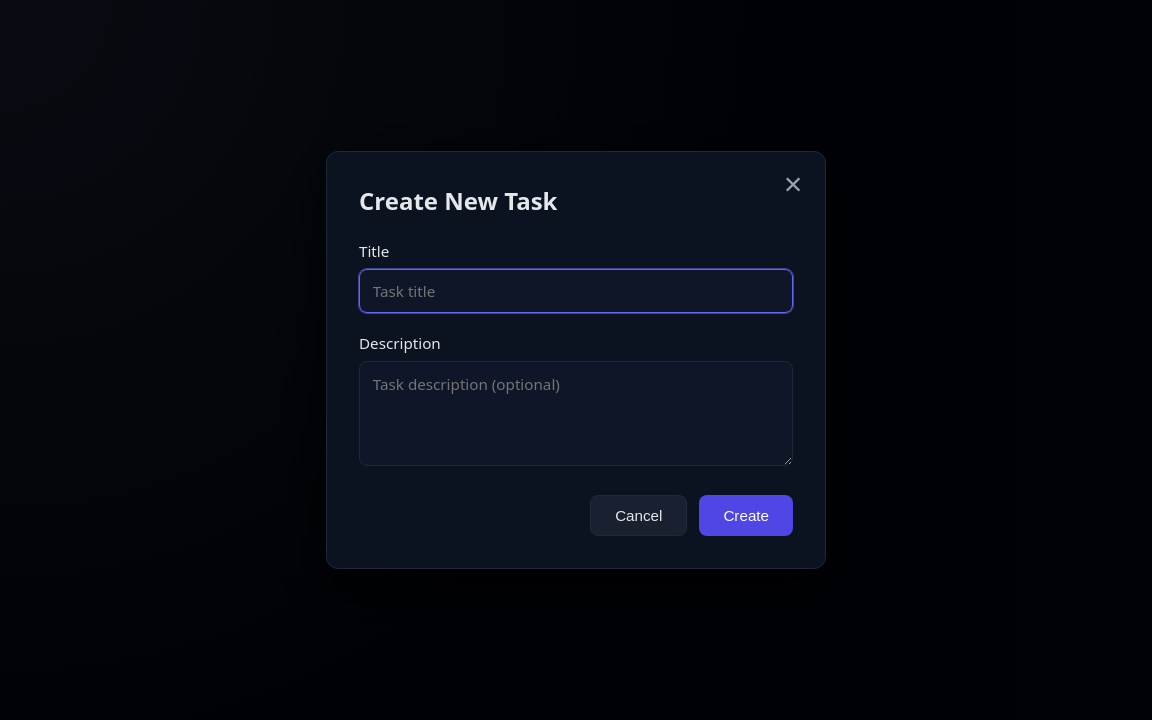
it: CreateTaskModal › shows error when submitting empty title
Click the button with test id "btn-create".
click(746, 515)  # box [699, 495, 793, 536]
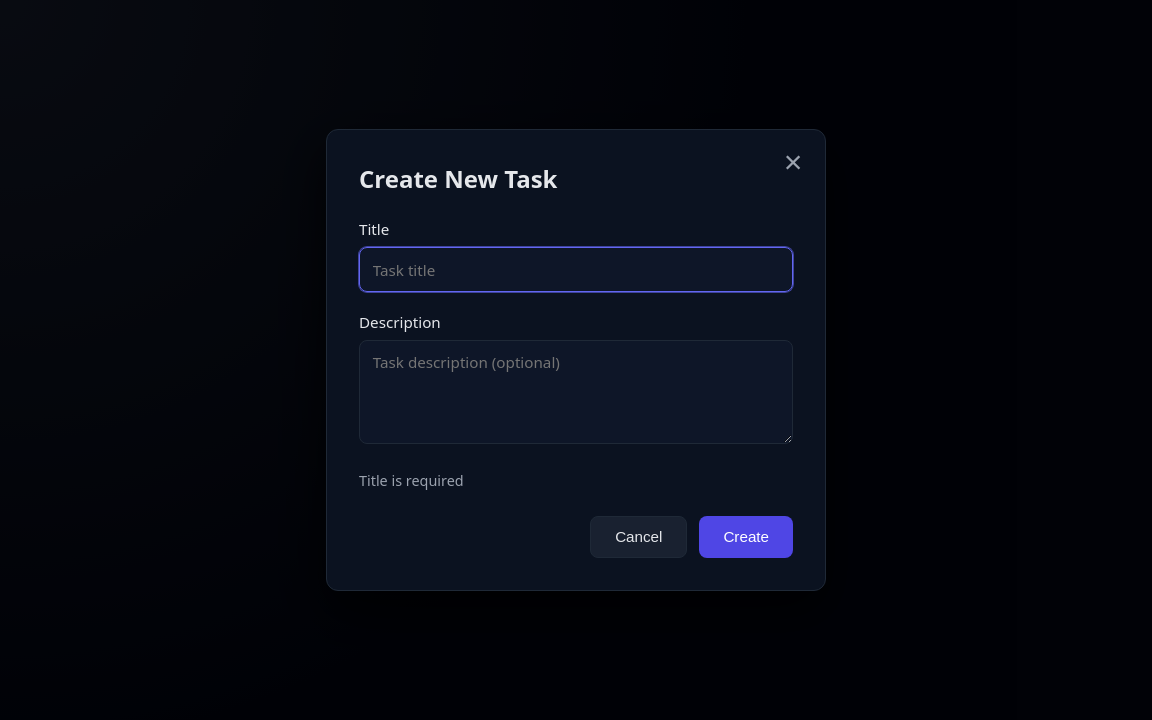
Expected: the text "Title is required" is shown, [359, 471, 464, 490]
